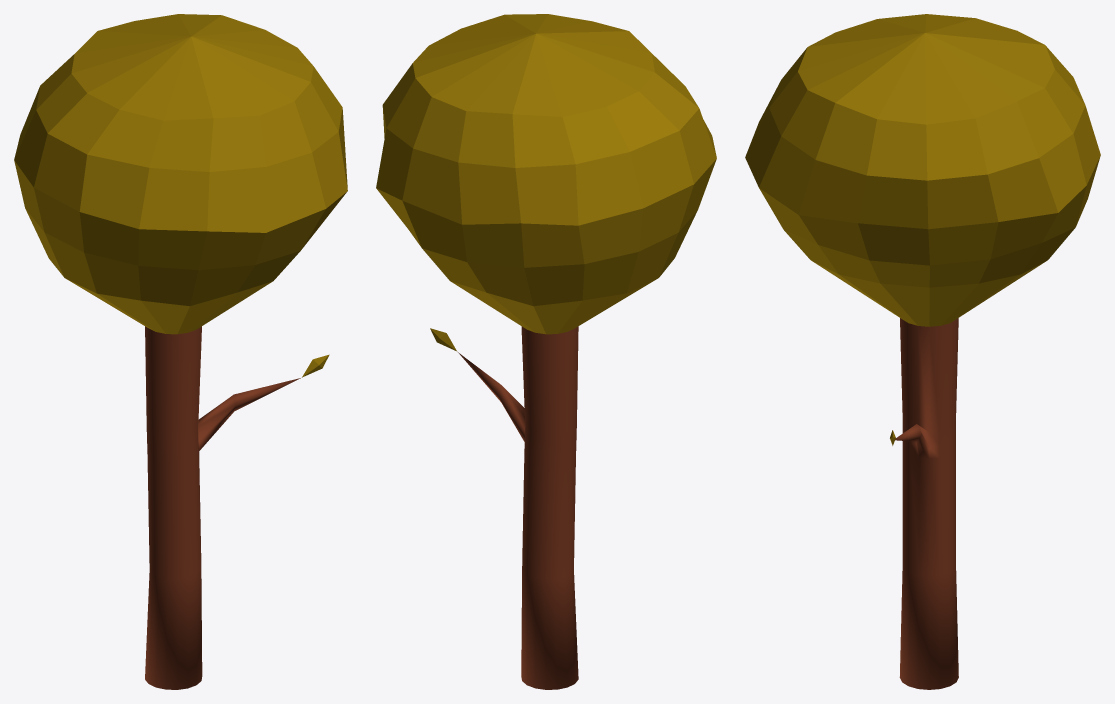
The model's file is tree_scatter_2.gltf.
The picture shows the model from 3 angles, left to right: view 1: azimuth 30°, elevation 25°; view 2: azimuth 150°, elevation 25°; view 3: azimuth 270°, elevation 25°; orthographic projection. The views are drawn at different scales.
Parts seen in each view (by area): view 1: Tree; view 2: Tree; view 3: Tree.
Boxes of the visible parts, x1,y1,x2,y2 form: Tree: (14, 14, 347, 689); Tree: (376, 14, 716, 689); Tree: (745, 14, 1100, 689).
Size of the model in its own units: 4.64 by 9.75 by 4.82.
